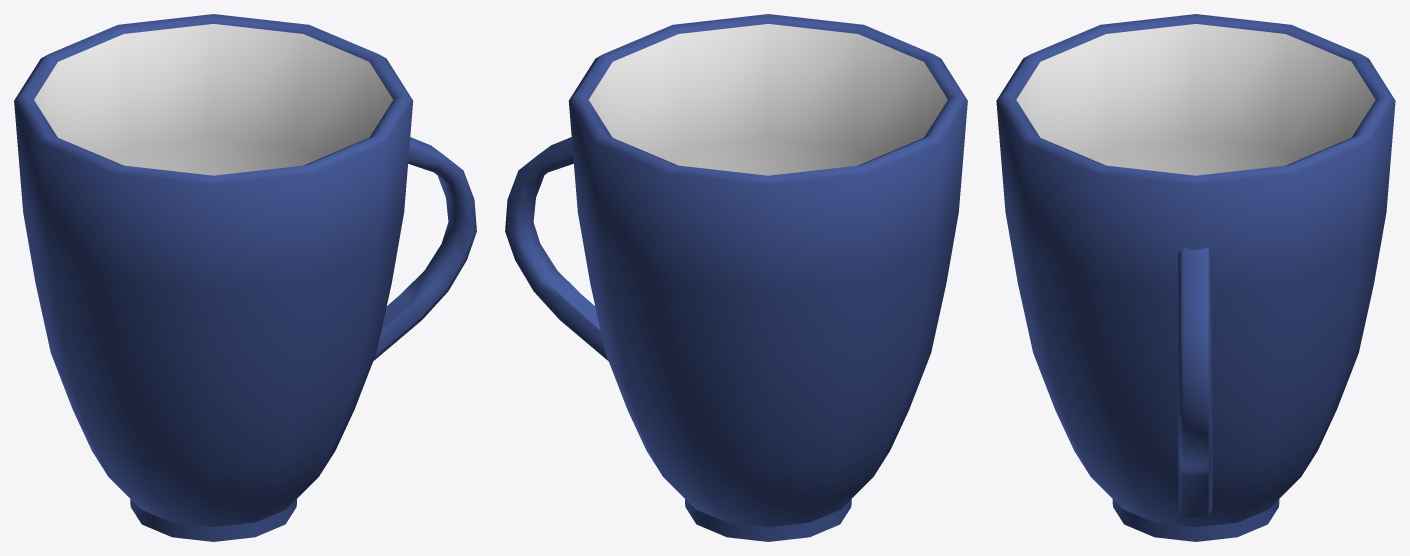
File: Mug_04.fbx
3 renders of one model, left to right at view 1: azimuth 30°, elevation 25°; view 2: azimuth 150°, elevation 25°; view 3: azimuth 270°, elevation 25°, orthographic.
Parts seen in each view (by area): view 1: Mug_04; view 2: Mug_04; view 3: Mug_04.
Part boxes in pixels (<box>): Mug_04: <box>14,14,476,541</box>; Mug_04: <box>505,14,967,541</box>; Mug_04: <box>996,14,1395,541</box>.
Bounding box in the file's own units: 0.1446 × 0.1324 × 0.1163.
